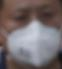with_mask: (1, 1, 62, 69)
